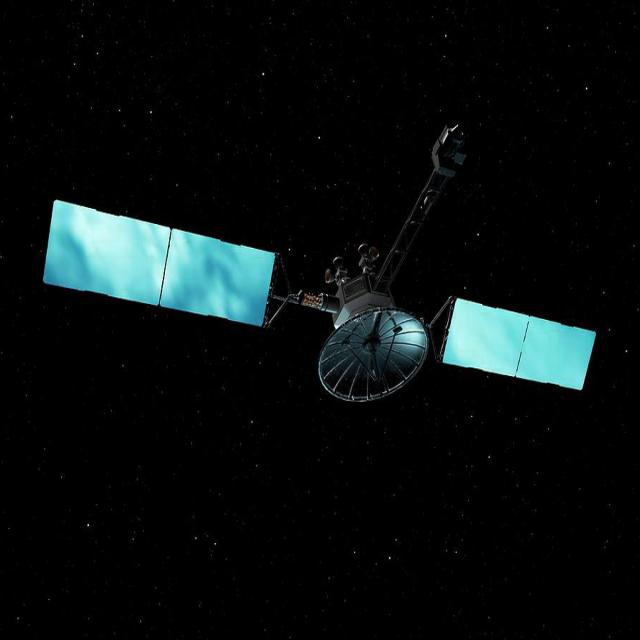satellite: (32, 109, 599, 458)
